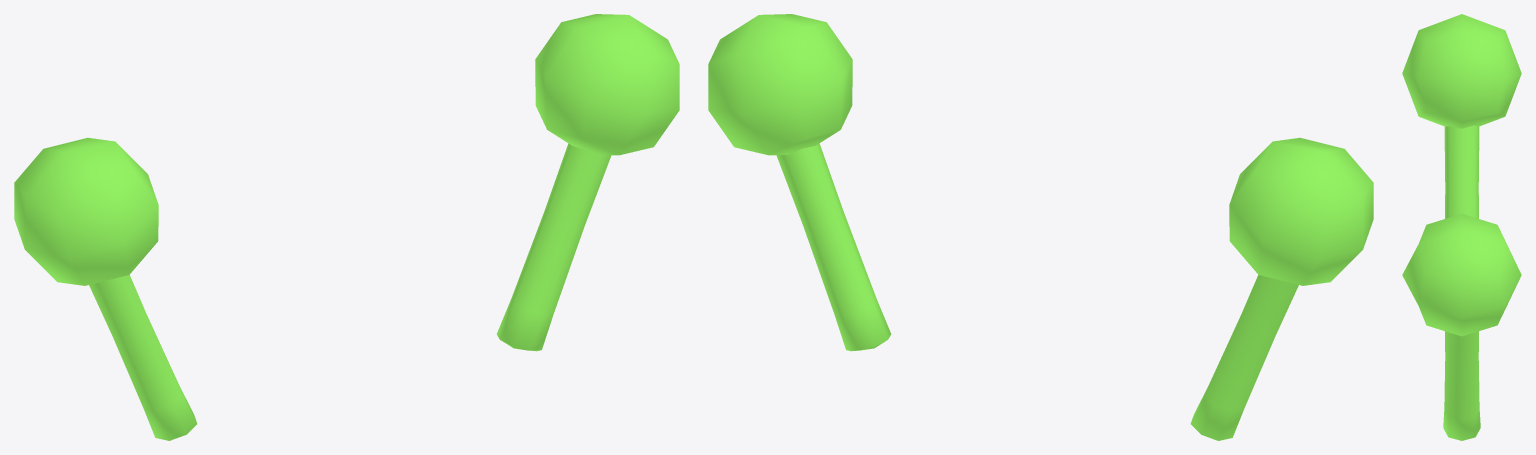
Rendered from accessory-antennae.glb.
3 views of the same model, side by side, from view 1: azimuth 30°, elevation 25°; view 2: azimuth 150°, elevation 25°; view 3: azimuth 270°, elevation 25° (orthographic). The views are drawn at different scales.
Visible parts, largest first — view 1: accessory__Cube__0; view 2: accessory__Cube__0; view 3: accessory__Cube__0.
Boxes of the visible parts, x1,y1,x2,y2 form: accessory__Cube__0: (14,14,679,440); accessory__Cube__0: (708,14,1373,440); accessory__Cube__0: (1402,14,1521,440).
Bounding box in the file's own units: 0.6487 × 0.2956 × 0.1315.
